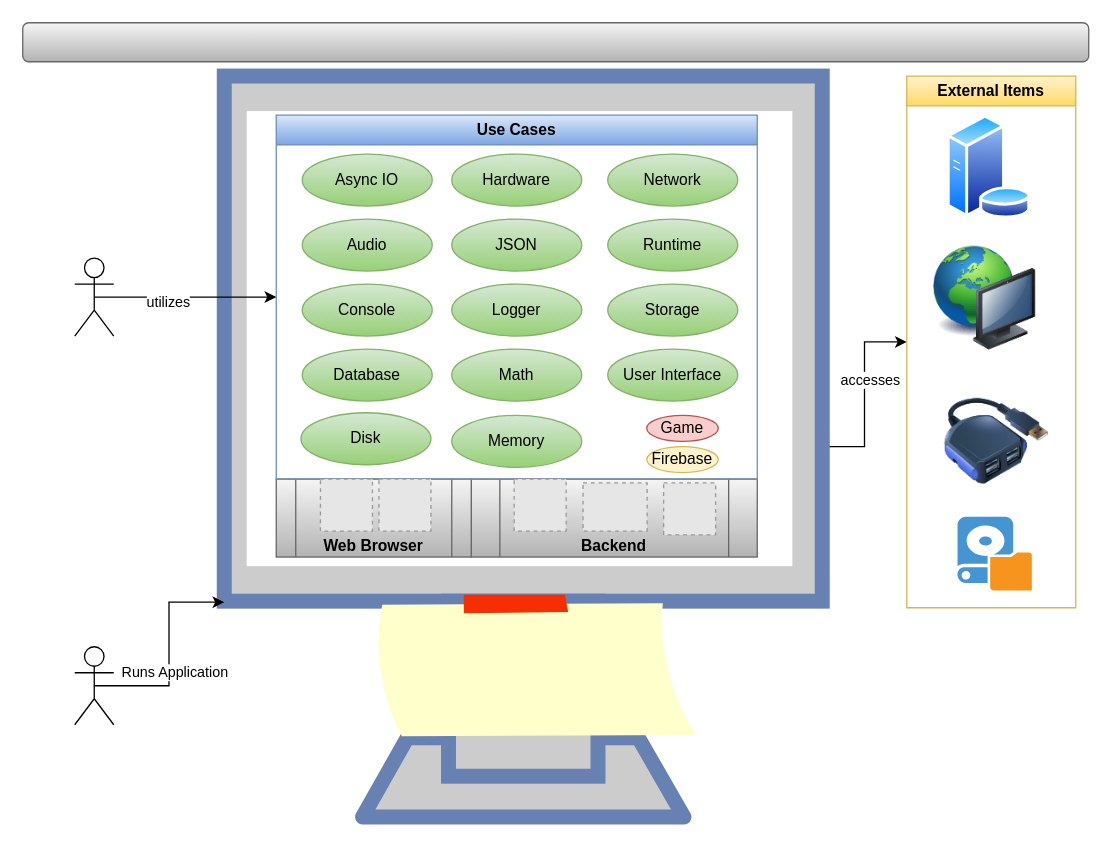
The diagram is 1112 pixels wide and 841 high, and some of its shapes have lost their labels. Grey dashed boxes stand in for pictures. The centre of each missing label's shape, as x and y in pixels:
Application User: (x=93, y=685)
Module Use Case Module: (x=555, y=41)
Software Engineer: (x=93, y=296)
v1.0.0 Green Use Cases v2.0.0 Game Use Case v3.0.0 Firebase Use Case: (x=535, y=665)
